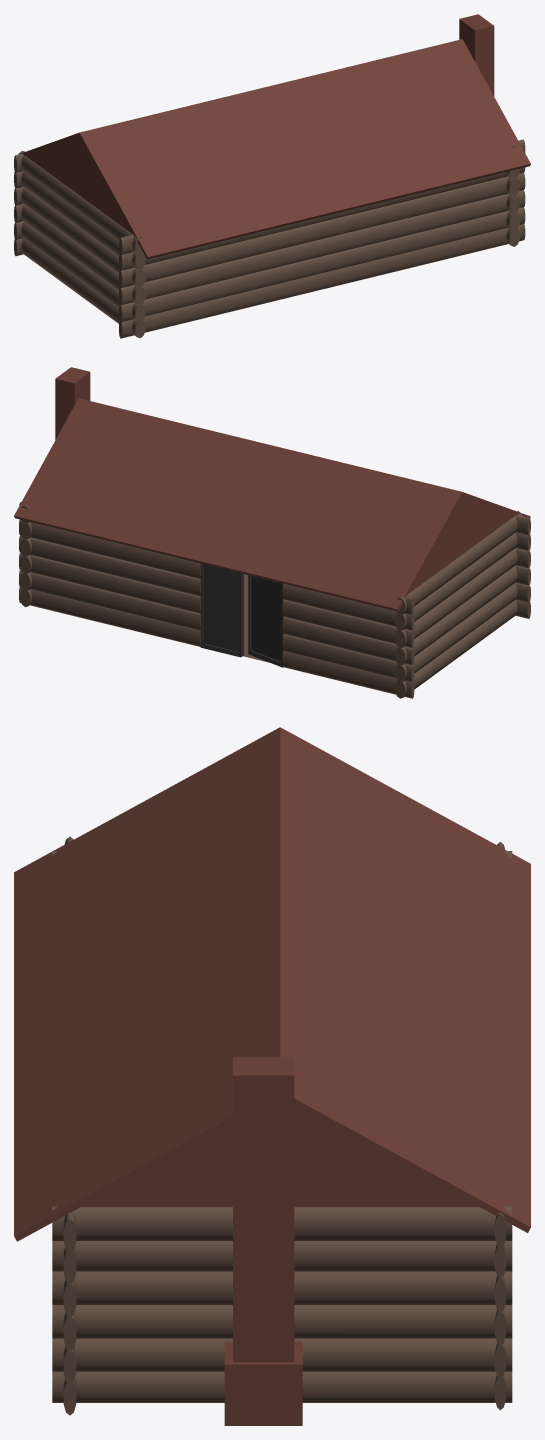
File: Cabaña.fbx
3 views of the same model, one above another, from view 1: azimuth 30°, elevation 25°; view 2: azimuth 150°, elevation 25°; view 3: azimuth 270°, elevation 25° (orthographic). The views are drawn at different scales.
Visible parts, largest first — view 1: polySurface66, polySurface92; view 2: polySurface66, polySurface92, pCube4; view 3: polySurface66, polySurface92.
Boxes of the visible parts, x1,y1,x2,y2 form: polySurface66: (18, 14, 530, 259); polySurface92: (14, 139, 525, 338); polySurface66: (14, 367, 530, 611); polySurface92: (19, 502, 530, 698); pCube4: (200, 563, 283, 667); polySurface66: (14, 727, 530, 1425); polySurface92: (52, 836, 512, 1415).
Bounding box in the file's own units: 3280 × 1356 × 1805.
